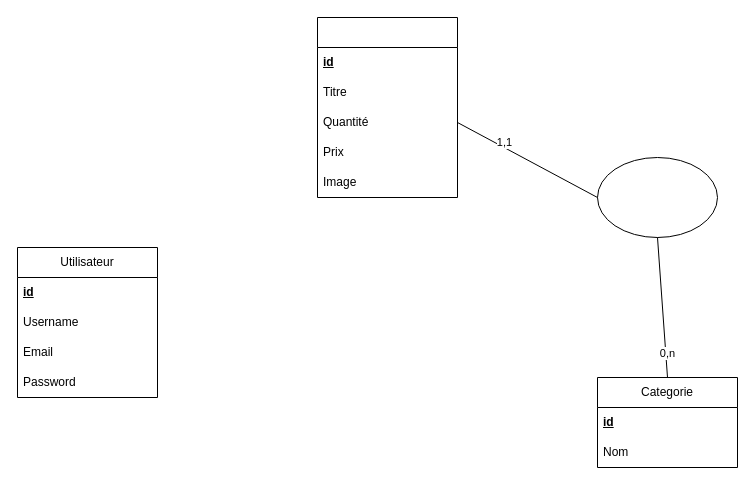
The diagram is 755 pixels wide and 485 high, and some of its shapes have lost their labels. Here are the shapes that lost their labels. From the top down, the box of each, then its label:
(316, 16, 458, 198): Produit
(596, 156, 718, 238): Contenir
